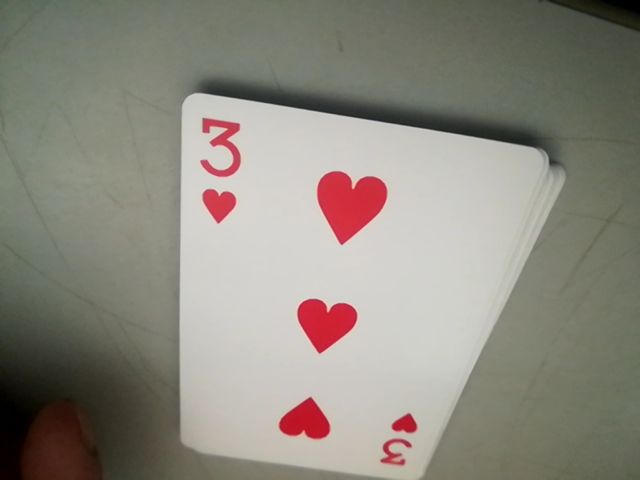hx 3: (197, 116, 243, 225), (374, 410, 426, 476)
